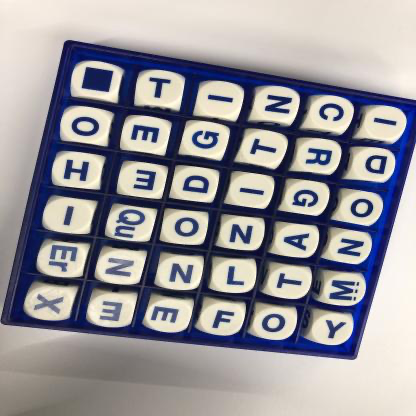a: (276, 225, 319, 258)
c: (310, 98, 354, 131)
d: (353, 148, 399, 182), (175, 170, 217, 201)
e: (125, 119, 171, 153), (120, 165, 166, 199), (90, 293, 134, 327), (148, 300, 193, 333)
er: (40, 245, 86, 278)
f: (202, 304, 246, 337)
g: (184, 124, 231, 156), (285, 182, 329, 215)
h: (52, 156, 99, 190)
i: (44, 201, 93, 234), (199, 84, 244, 116), (231, 176, 274, 206), (366, 108, 407, 139)
l: (213, 260, 257, 293)
m: (324, 273, 368, 306)
n: (98, 250, 143, 284), (256, 89, 299, 122), (159, 257, 203, 288), (223, 217, 264, 249), (330, 234, 371, 264)
o: (60, 110, 111, 144), (254, 307, 297, 341), (163, 214, 207, 245), (343, 193, 384, 224)
qu: (111, 209, 155, 240)
r: (298, 141, 342, 173)
t: (136, 73, 183, 108), (243, 133, 288, 165), (270, 267, 312, 299)
wild: (70, 66, 120, 101)
x: (25, 287, 72, 322)
y: (311, 313, 357, 346)
